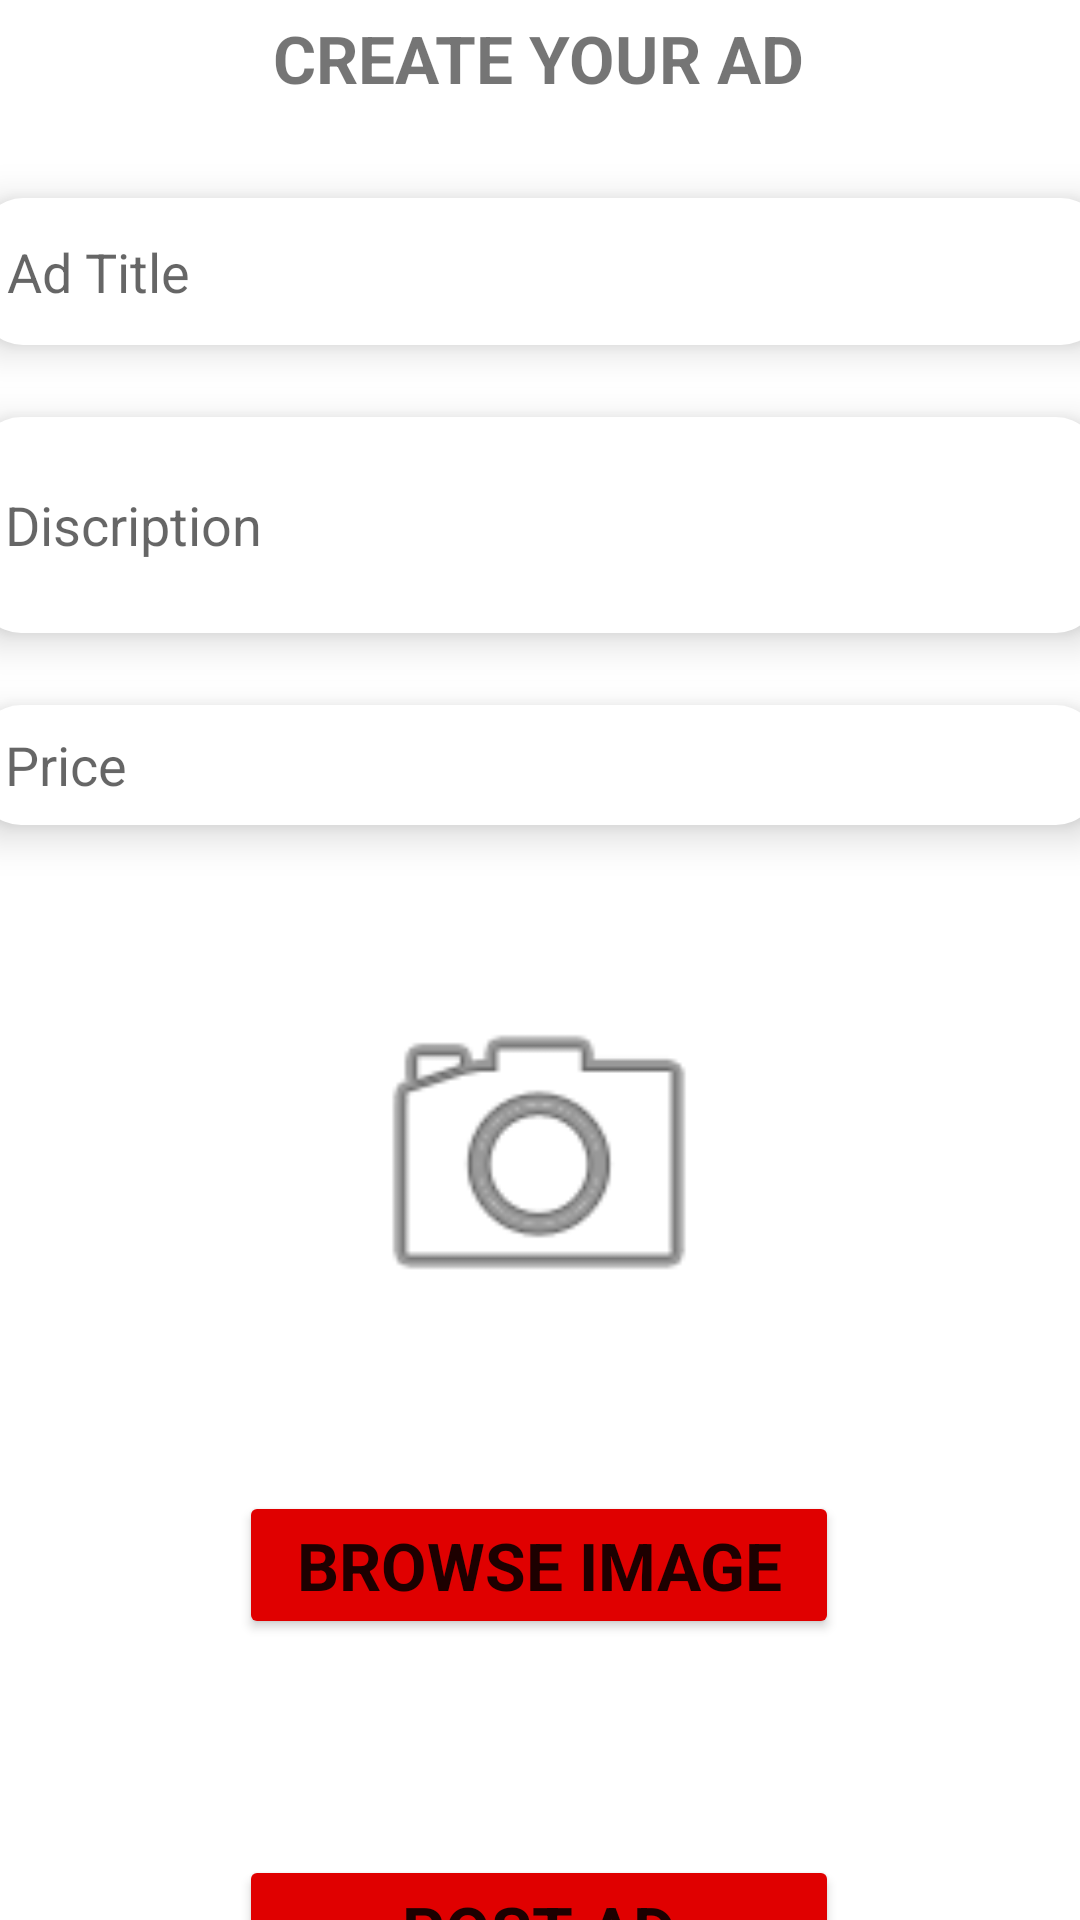

Named icons in this screenshot (1080×1920) and their centers, [x,y]:
camera: [539,1152]
